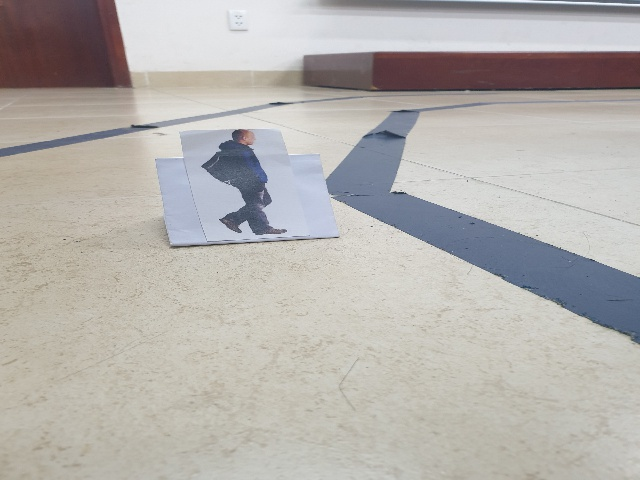Person: (199, 128, 287, 236)
